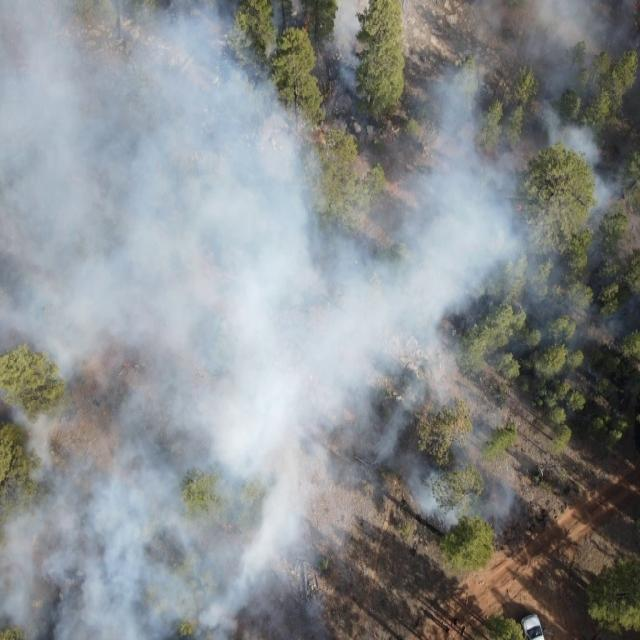fire: (300, 10, 312, 30), (514, 198, 526, 212), (120, 359, 130, 371)
smoke: (1, 0, 338, 640), (337, 0, 640, 338), (339, 337, 520, 538)
